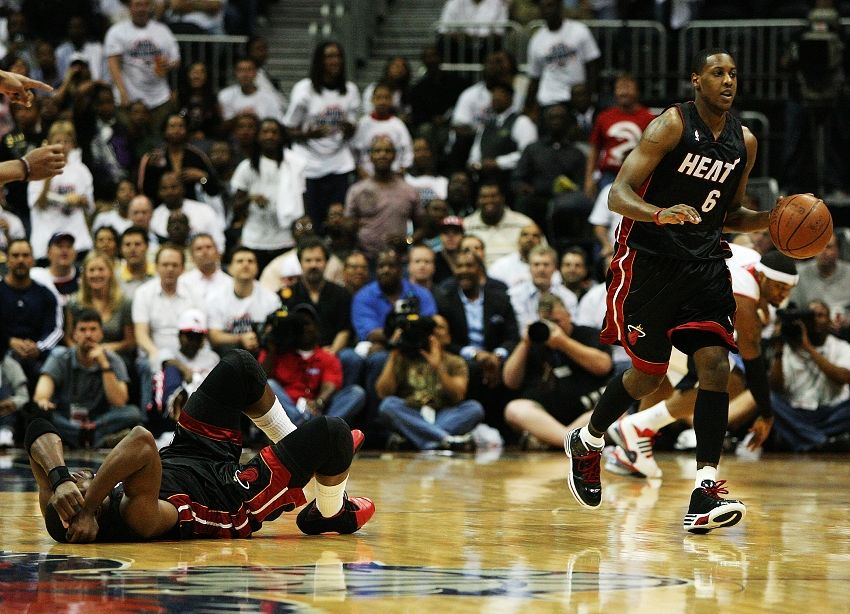10+: (9, 24, 850, 500)
down: (5, 356, 382, 547)
